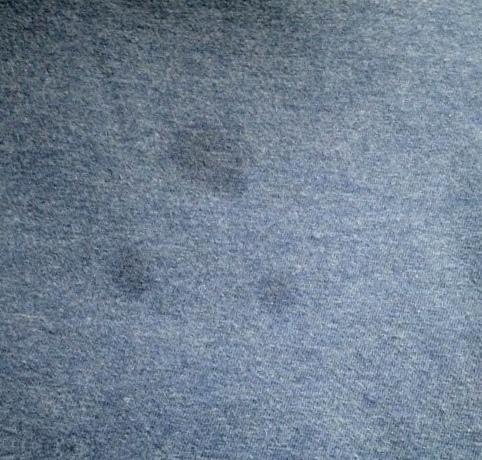stain: (165, 108, 256, 205), (105, 243, 156, 305), (253, 264, 310, 317)
